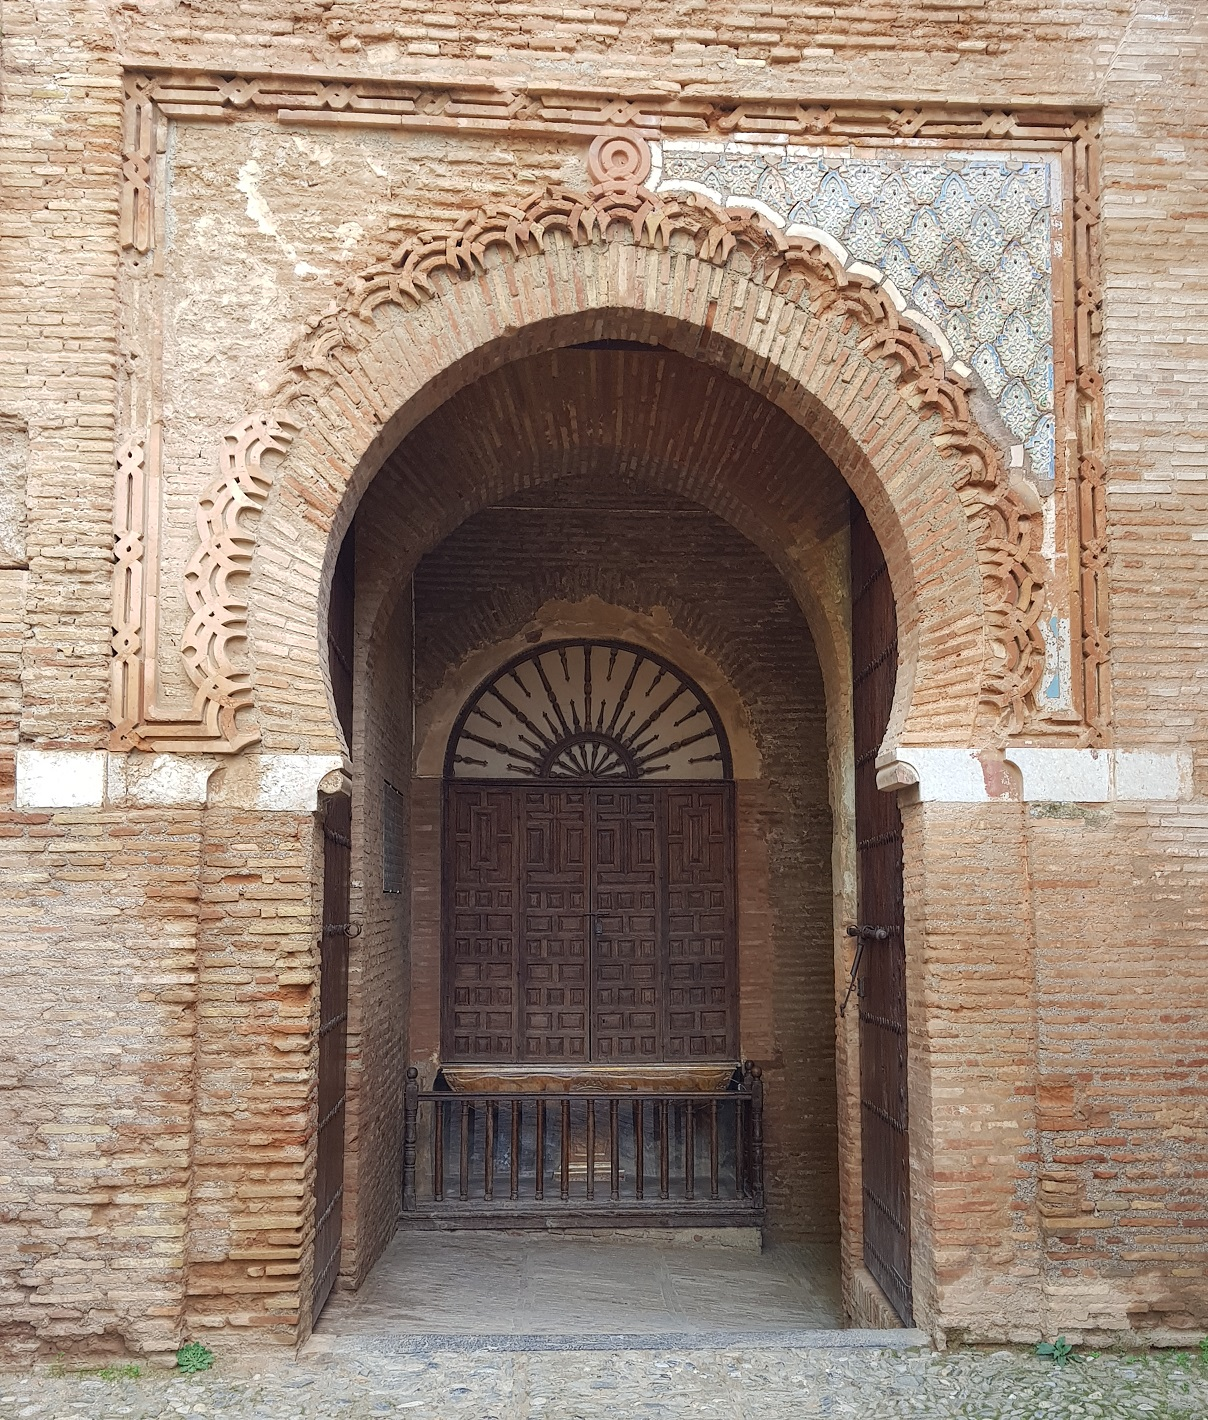arco-herradura: (273, 279, 955, 848)
